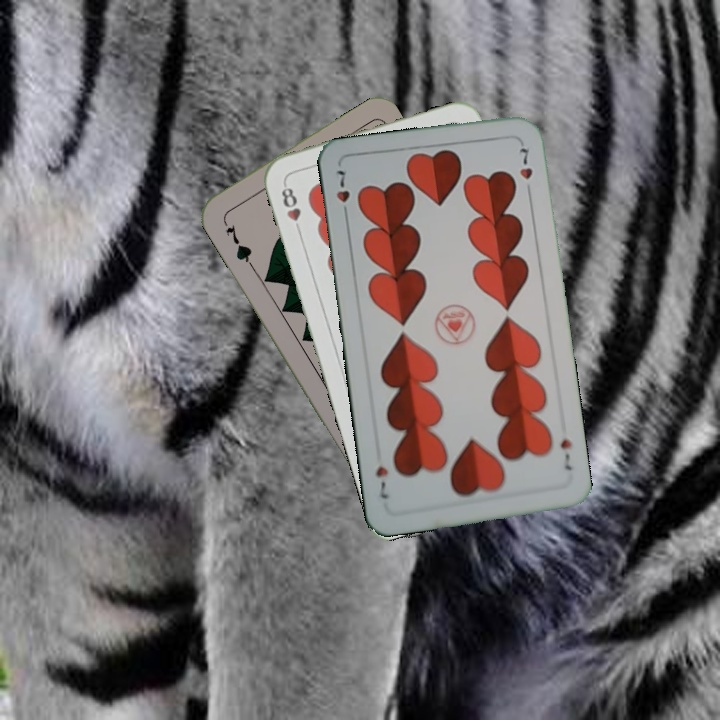G7: (218, 215, 255, 269)
H7: (332, 166, 353, 222), (556, 435, 575, 473)
H8: (277, 179, 305, 237)
